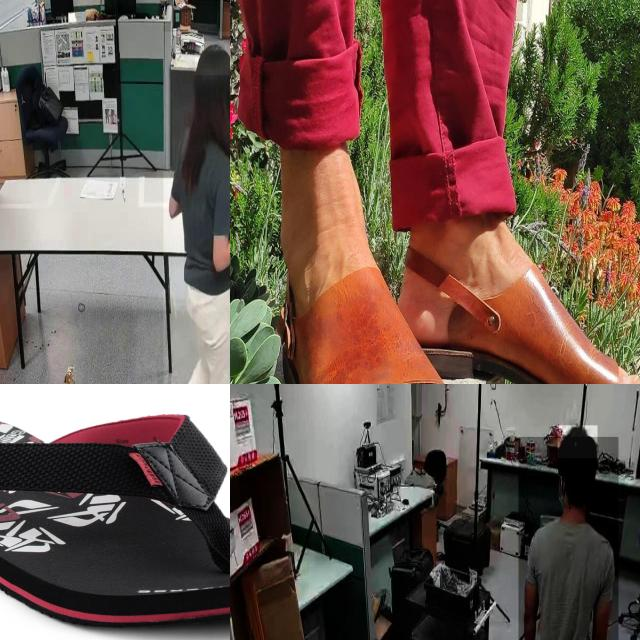Sandals: (0, 411, 230, 632), (276, 256, 462, 384)
head_nohelmet: (558, 425, 598, 459), (195, 41, 230, 75)
person: (163, 31, 230, 384), (518, 436, 619, 640)
